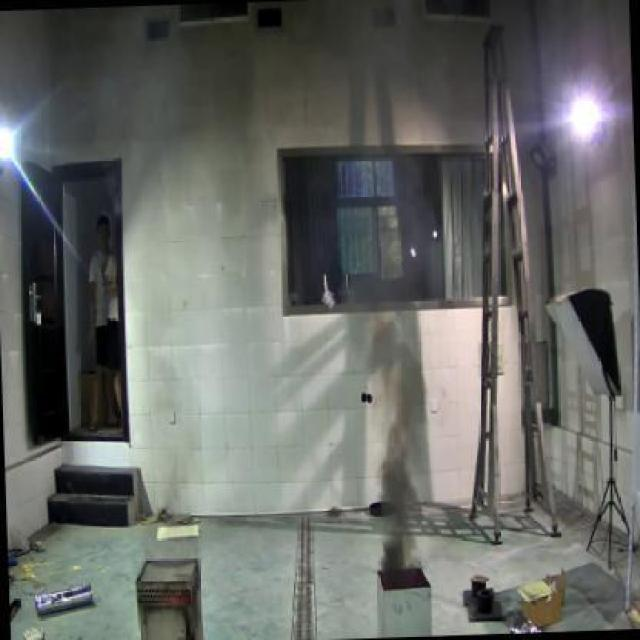fire: (362, 317, 424, 568)
